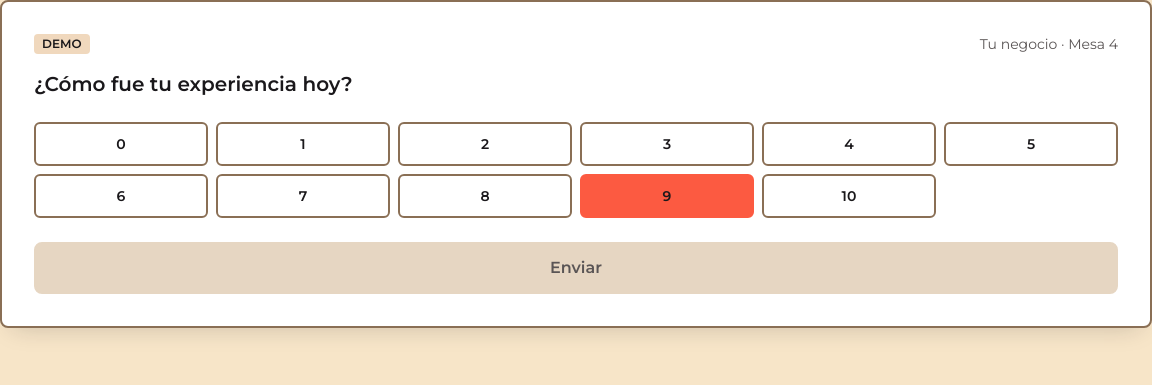
SurveyCard › changing selection after submit hides the status message
The width and height of the screenshot is (1152, 385).
Note: Select and submit
Click the radio button labelled "5": (1031, 144) [944, 122, 1118, 166]
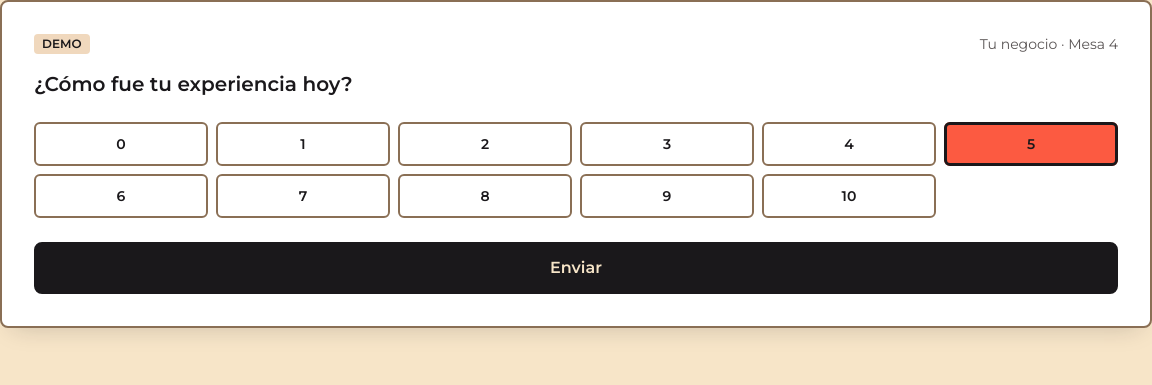
Click the button "Enviar": (576, 268) [34, 242, 1118, 294]
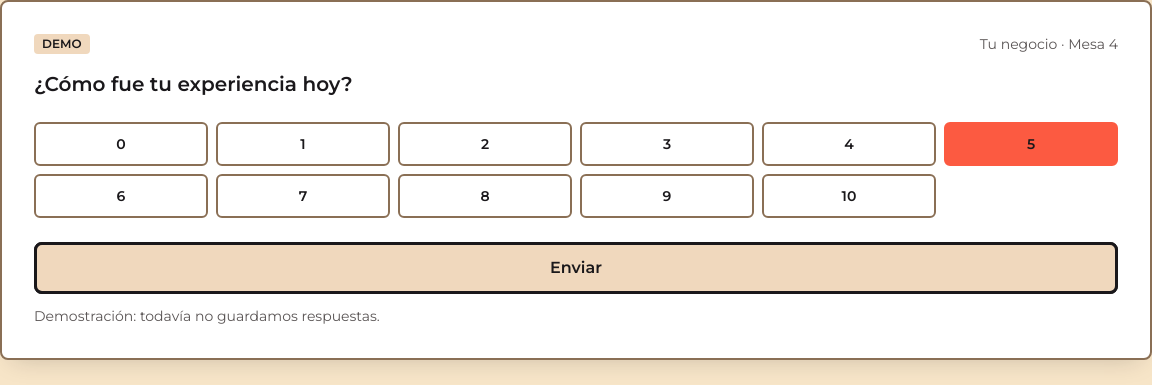
expect the message "Demostración: todavía no guardamos respuestas." is shown: met, box [34, 307, 380, 325]
Note: Change selection
Click the radio button labelled "8": (485, 196) [398, 174, 572, 218]
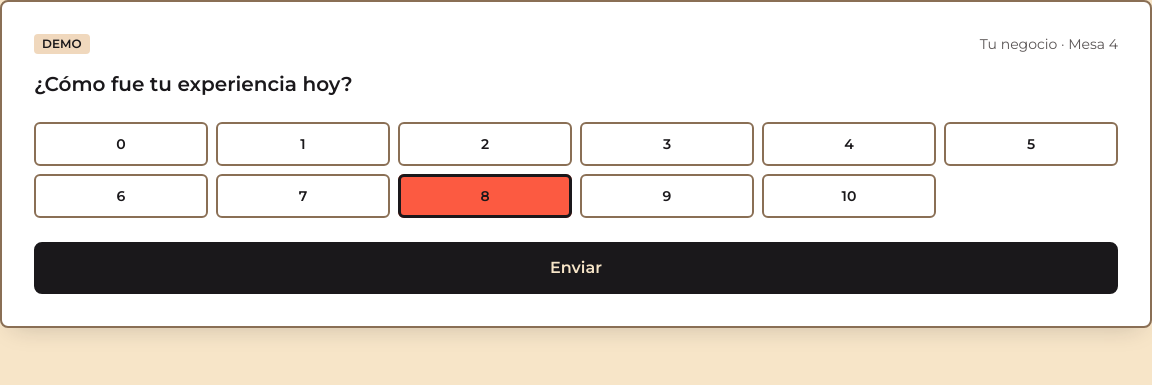
expect the message "Demostración: todavía no guardamos respuestas." is gone: met
